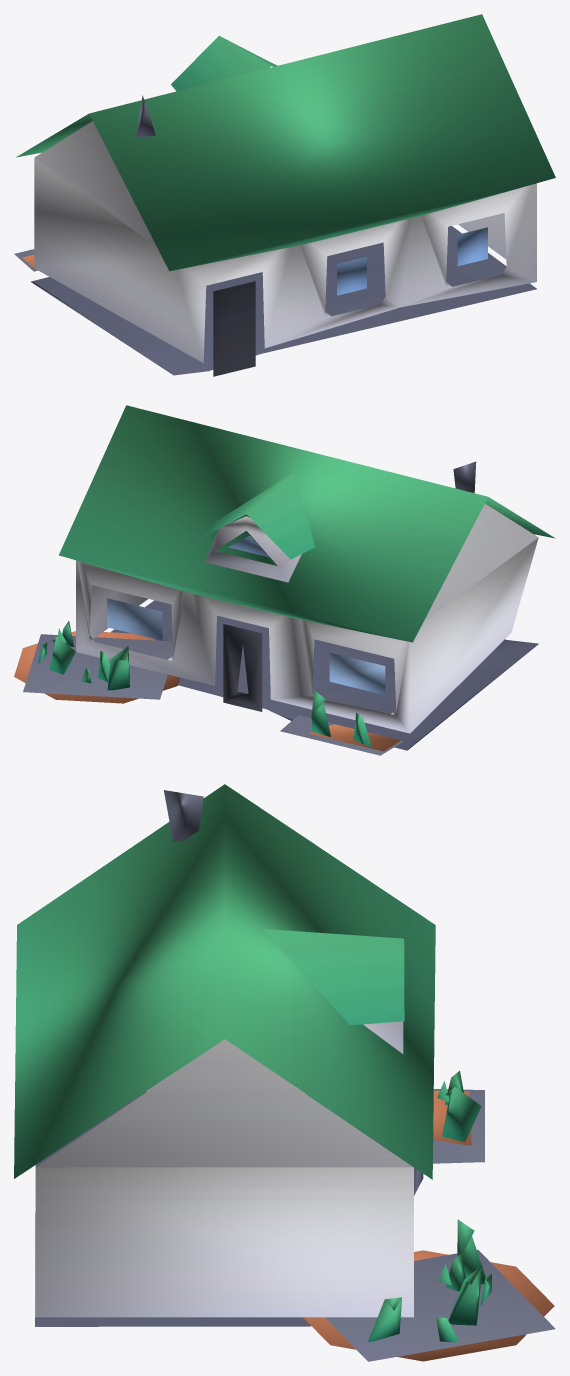
File: house-g-low.glb
3 renders of one model, top to bottom at view 1: azimuth 30°, elevation 25°; view 2: azimuth 150°, elevation 25°; view 3: azimuth 270°, elevation 25°, orthographic. The views are drawn at different scales.
Parts seen in each view (by area): view 1: building-type-g baked; view 2: building-type-g baked; view 3: building-type-g baked.
Part boxes in pixels (x1,y1,x2,y2): building-type-g baked: (14, 14, 555, 376); building-type-g baked: (14, 405, 555, 755); building-type-g baked: (14, 784, 555, 1361).
Bounding box in the file's own units: 13.29 × 7 × 10.65.
1 material, 1 textured.
